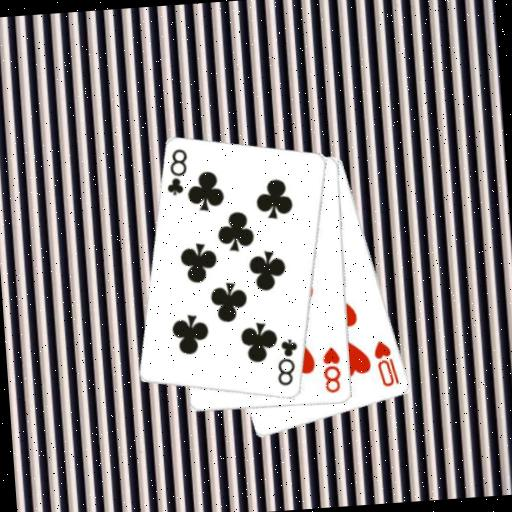10H: (371, 337, 403, 390)
8C: (272, 336, 302, 389), (162, 146, 192, 199)
8H: (319, 344, 344, 396)
